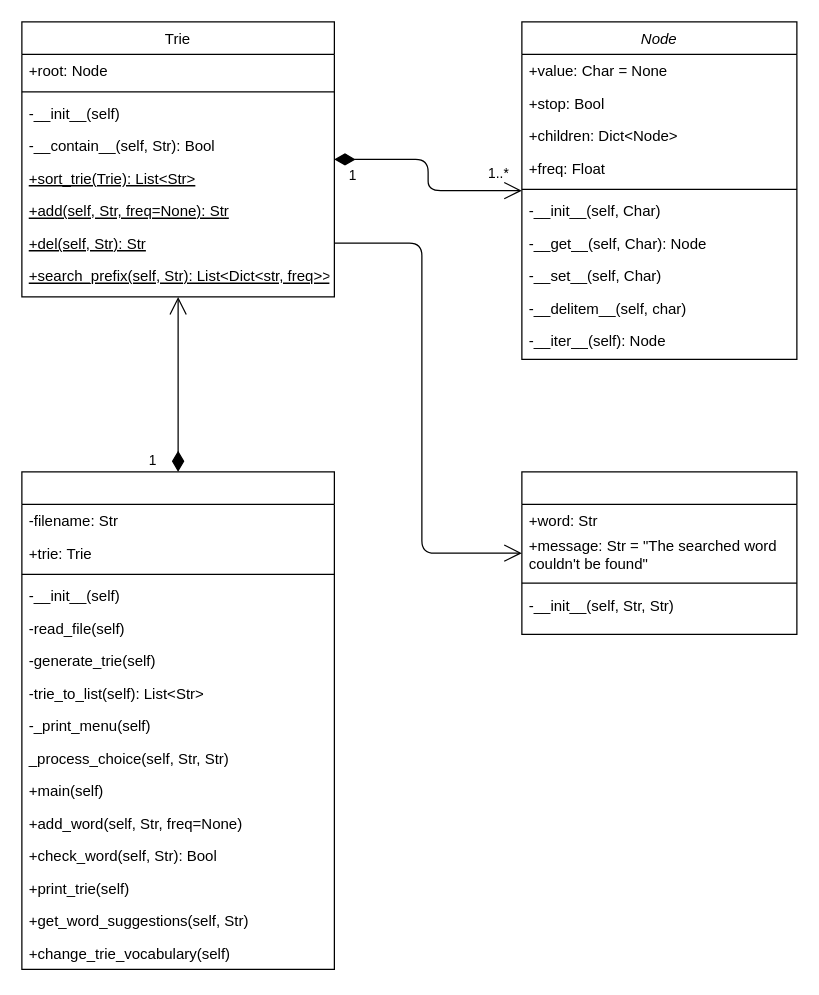
This 819x995 diagram has some shape labels left out. Each missing label, with the box of its shape:
SearchMiss(Exception): (521, 471, 797, 634)
SpellChecker: (21, 471, 334, 969)
